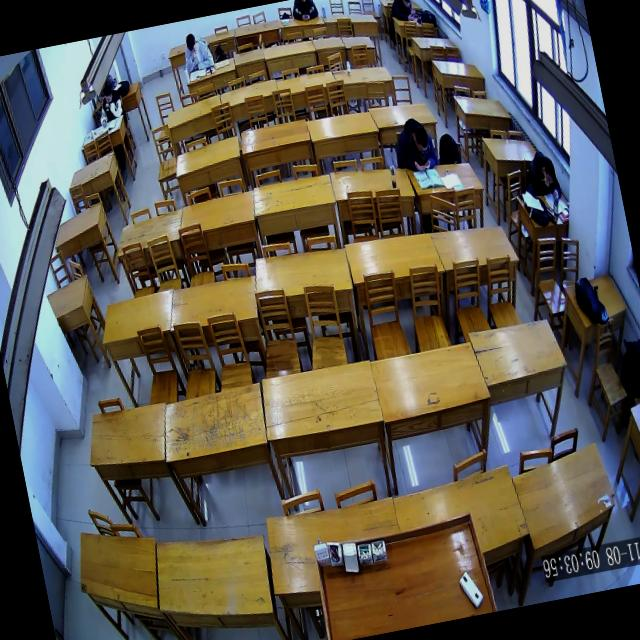bow: (522, 148, 563, 203), (387, 0, 416, 24)
down: (412, 126, 432, 156), (539, 155, 557, 185), (184, 32, 198, 54), (102, 84, 114, 104), (400, 0, 412, 8)
sit: (388, 114, 438, 174), (93, 81, 128, 127), (180, 30, 215, 71)
